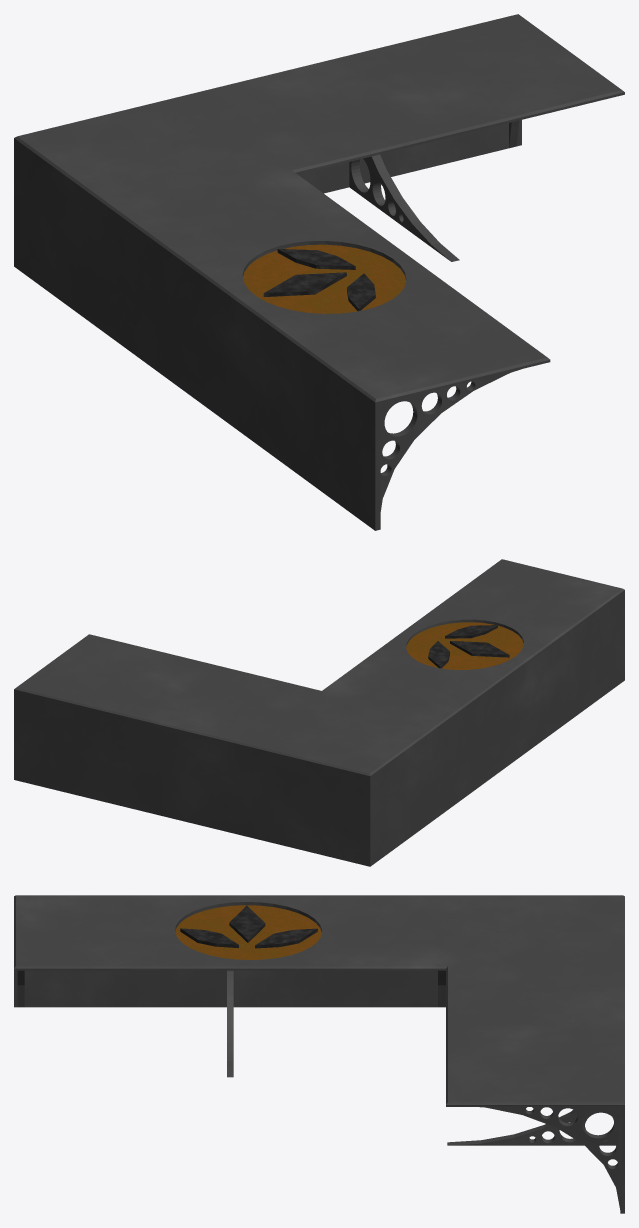
Rendered from Table bend lab.glb.
3 renders of one model, top to bottom at view 1: azimuth 30°, elevation 25°; view 2: azimuth 150°, elevation 25°; view 3: azimuth 270°, elevation 25°, orthographic. The views are drawn at different scales.
Parts seen in each view (by area): view 1: Cube, Cube.002, Cube.003; view 2: Cube, Cube.002, Cube.003; view 3: Cube, Cube.002, Cube.003.
Part boxes in pixels (left/top/right/bottom): Cube: left=14, top=14, right=624, bottom=530; Cube.002: left=243, top=244, right=405, bottom=313; Cube.003: left=263, top=249, right=375, bottom=311; Cube: left=14, top=559, right=624, bottom=866; Cube.002: left=406, top=622, right=523, bottom=669; Cube.003: left=428, top=625, right=509, bottom=668; Cube: left=14, top=895, right=624, bottom=1213; Cube.002: left=175, top=905, right=321, bottom=959; Cube.003: left=180, top=905, right=317, bottom=948.
Size of the model in its own units: 30.38 by 7.5 by 37.62.
Materials: 3 (3 with a texture image).
